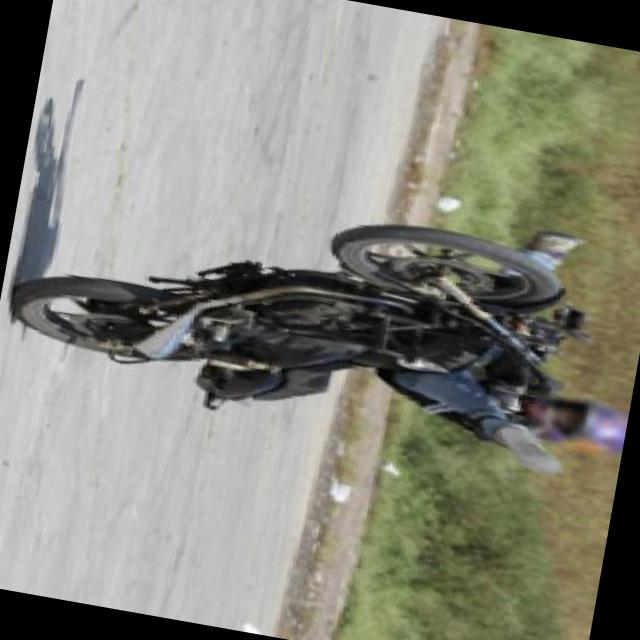With Helmet: (524, 387, 630, 459)
